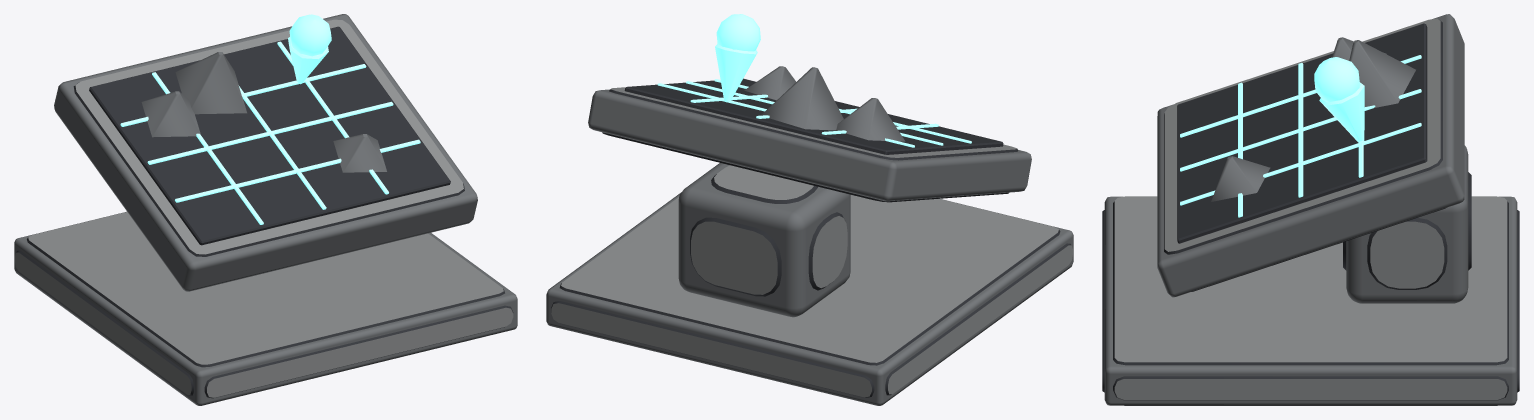
File: R4X_Minimap.glb
3 views of the same model, side by side, from view 1: azimuth 30°, elevation 25°; view 2: azimuth 150°, elevation 25°; view 3: azimuth 270°, elevation 25° (orthographic). The views are drawn at different scales.
Parts seen in each view (by area): view 1: R4X_Minimap_Body; view 2: R4X_Minimap_Body; view 3: R4X_Minimap_Body.
Boxes of the visible parts, left/top/right/bottom form: R4X_Minimap_Body: left=14, top=14, right=517, bottom=405; R4X_Minimap_Body: left=546, top=14, right=1073, bottom=405; R4X_Minimap_Body: left=1102, top=14, right=1519, bottom=405.
Size of the model in its own units: 0.52 by 0.4041 by 0.52.
